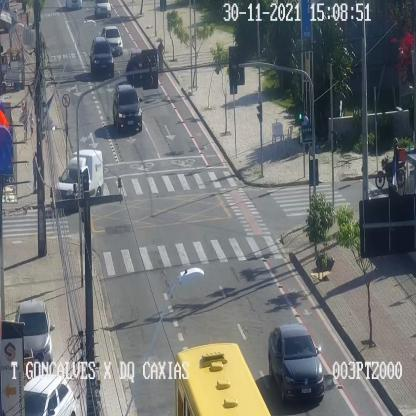bicycle: (157, 41, 164, 74)
bus: (175, 342, 271, 416)
car: (268, 324, 324, 401), (54, 149, 103, 202), (16, 301, 52, 372), (23, 374, 76, 415), (113, 83, 142, 130), (90, 36, 114, 76), (100, 25, 122, 54), (130, 51, 147, 78), (94, 1, 115, 18)
motorbike: (375, 137, 406, 188)
person: (301, 111, 308, 153), (21, 101, 28, 140), (32, 151, 38, 193), (28, 112, 34, 136)
